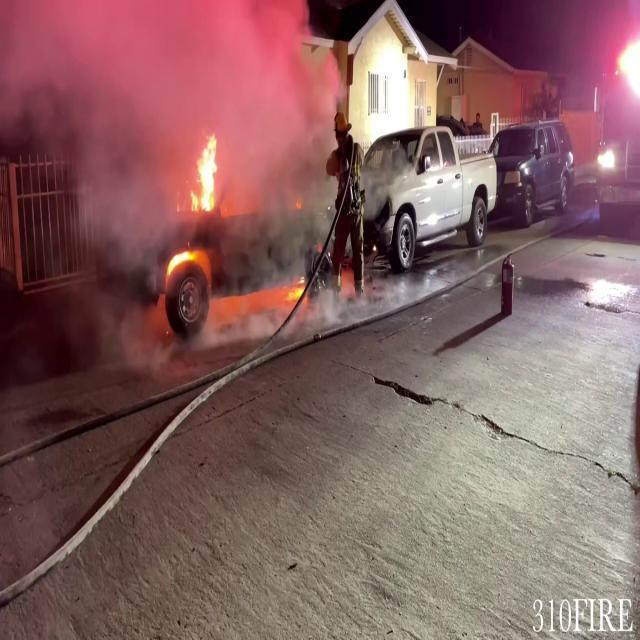Fire: (187, 130, 225, 220)
Smoke: (0, 0, 340, 237)
